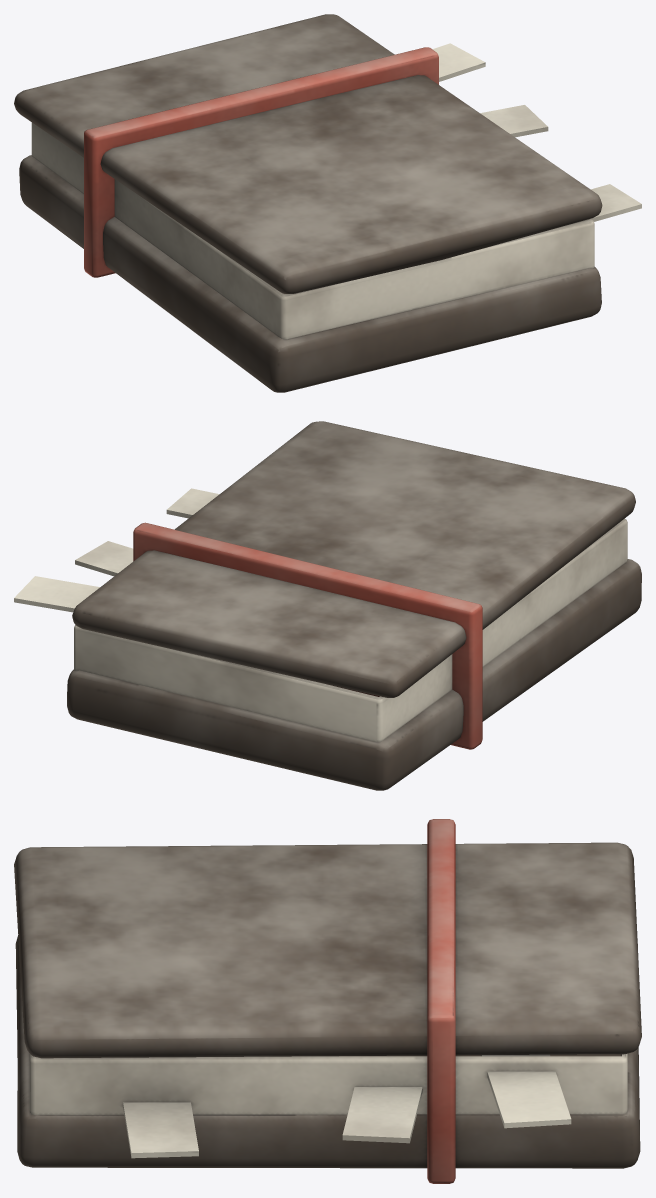
File: journal.fbx
3 views of the same model, one above another, from view 1: azimuth 30°, elevation 25°; view 2: azimuth 150°, elevation 25°; view 3: azimuth 270°, elevation 25° (orthographic). The views are drawn at different scales.
Parts seen in each view (by area): view 1: Body; view 2: Body; view 3: Body.
Part boxes in pixels (<box>): Body: <box>14,14,641,392</box>; Body: <box>14,421,641,790</box>; Body: <box>14,819,641,1183</box>.
Size of the model in its own units: 1.03 by 0.33 by 1.11.
Materials: 1 (1 with a texture image).
